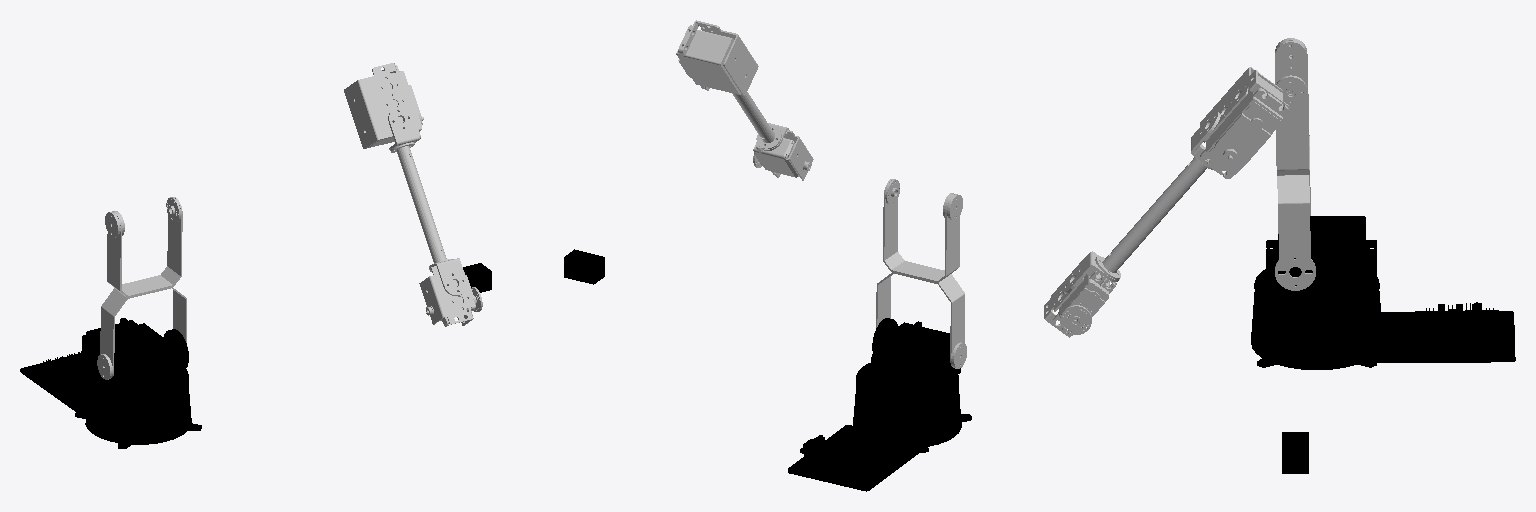
URDF robot description (lynxmotion_al5d):
<?xml version="1.0" ?>
<!-- =================================================================================== -->
<!-- |    This document was autogenerated by xacro from al5d.xacro                     | -->
<!-- |    EDITING THIS FILE BY HAND IS NOT RECOMMENDED                                 | -->
<!-- =================================================================================== -->
<robot name="lynxmotion_al5d" xmlns:xacro="http://ros.org/wiki/xacro">
  <!-- attach -->
  <!-- links -->
  <link name="base_link">
    <visual>
      <origin rpy="0 0 0" xyz="0 -0.015 0.0015"/>
      <geometry>
        <mesh filename="package://lynxmotion_al5d_support/meshes/base_1.dae"/>
      </geometry>
      <material name="black">
        <color rgba="0 0 0 1"/>
      </material>
    </visual>
    <collision>
      <origin rpy="0 0 0" xyz="0 0 0.015"/>
      <geometry>
        <cylinder length="0.043" radius="0.048"/>
      </geometry>
    </collision>
  </link>
  <link name="link_1">
    <visual>
      <origin rpy="0 0 0" xyz="0.0 -0.018 -0.042"/>
      <geometry>
        <mesh filename="package://lynxmotion_al5d_support/meshes/link_11.dae"/>
      </geometry>
      <material name="black">
        <color rgba="0 0 0 1"/>
      </material>
    </visual>
    <collision>
      <origin rpy="0 0 0" xyz="0 0 0"/>
      <geometry>
        <cylinder length="0.006" radius="0.048"/>
      </geometry>
    </collision>
  </link>
  <link name="link_2">
    <visual>
      <origin rpy="-0.38 0 0" xyz="0 -0.035 -0.06"/>
      <geometry>
        <mesh filename="package://lynxmotion_al5d_support/meshes/link_2.dae"/>
      </geometry>
      <material name="silver">
        <color rgba="0.8 0.8 0.8 1"/>
      </material>
    </visual>
    <collision>
      <origin rpy="0.1 0 0" xyz="0.073025 0 0"/>
      <geometry>
        <box size="0.12605 0.02 .02"/>
      </geometry>
    </collision>
  </link>
  <link name="link_3">
    <visual>
      <origin rpy="0 0 0" xyz="0.0936625 0 0"/>
      <geometry>
        <mesh filename="package://lynxmotion_al5d_support/meshes/link_3.dae"/>
      </geometry>
      <material name="silver">
        <color rgba="0.8 0.8 0.8 1"/>
      </material>
    </visual>
    <collision>
      <origin rpy="0 0 0" xyz="0.0936625 0 0"/>
      <geometry>
        <box size="0.187325 0.02 0.02"/>
      </geometry>
    </collision>
  </link>
  <link name="link_4">
    <visual>
      <origin rpy="0 0 0" xyz="0.016 0 0"/>
      <geometry>
        <box size="0.032 0.02 0.02"/>
      </geometry>
      <material name="black">
        <color rgba="0 0 0 1"/>
      </material>
    </visual>
    <collision>
      <origin rpy="0 0 0" xyz="0.016 0 0"/>
      <geometry>
        <box size="0.032 0.02 0.02"/>
      </geometry>
    </collision>
  </link>
  <link name="gripper">
    <visual>
      <origin rpy="0 0 0" xyz="0 0 0"/>
      <geometry>
        <mesh filename="package://lynxmotion_al5d_support/meshes/gripper.dae"/>
      </geometry>
      <material name="black">
        <color rgba="0 0 0 1"/>
      </material>
    </visual>
    <collision>
      <origin rpy="0 0 0" xyz="0 0 0.025"/>
      <geometry>
        <box size="0.05 0.05 0.05"/>
      </geometry>
    </collision>
  </link>
  <link name="tool0"/>

  <!-- joints -->
  <joint name="joint_1" type="revolute">
    <origin rpy="0 0 0" xyz="0 0 0.045"/>
    <parent link="base_link"/>
    <child link="link_1"/>
    <axis xyz="0 0 1"/>
    <limit effort="0" lower="-1.570795" upper="1.570795" velocity="3.67"/>
  </joint>
  <joint name="joint_2" type="revolute">
    <origin rpy="0 0 0" xyz="0 -0.01 0.028"/>
    <parent link="link_1"/>
    <child link="link_2"/>
    <axis xyz="1 0 0"/>
    <limit effort="0" lower="-1.570795" upper="1.570795" velocity="3.32"/>
  </joint>
  <joint name="joint_3" type="revolute">
    <origin rpy="0 0 0" xyz="0.14605 0 0"/>
    <parent link="link_2"/>
    <child link="link_3"/>
    <axis xyz="0 0 1"/>
    <limit effort="0" lower="-1.570795" upper="1.570795" velocity="3.67"/>
  </joint>
  <joint name="joint_4" type="revolute">
    <origin rpy="0 0 0" xyz="0.187325 0 0"/>
    <parent link="link_3"/>
    <child link="link_4"/>
    <axis xyz="0 0 1"/>
    <limit effort="0" lower="-1.570795" upper="1.570795" velocity="6.98"/>
  </joint>
  <joint name="gripper" type="fixed">
    <origin rpy="0 0 0" xyz="0.048 0 0"/>
    <parent link="link_4"/>
    <child link="gripper"/>
    <axis xyz="0 0 1"/>
    <limit effort="0" lower="-1.570795" upper="1.570795" velocity="6.98"/>
  </joint>

    <joint name="joint3-tool0" type="fixed">
      <parent link="gripper"/>
      <child link="tool0"/>
      <origin rpy="0 0 0" xyz="0 0 0"/>
    </joint>

  <link name="world"/>
  <joint name="fixed" type="fixed">
    <parent link="world"/>
    <child link="base_link"/>
  </joint>
</robot>

--- Render facts (derived) ---
The picture shows the robot from 3 angles, left to right: view 1: azimuth 30°, elevation 25°; view 2: azimuth 150°, elevation 25°; view 3: azimuth 270°, elevation 25°; orthographic projection.
Model lynxmotion_al5d with 8 links and 7 joints (4 revolute, 3 fixed), rooted at world, posed every joint at zero.
Visible links, largest first — view 1: link_3, base_link, link_1, link_2, link_4; view 2: base_link, link_3, link_1, link_2, link_4; view 3: base_link, link_3, link_2, link_1, link_4.
Link boxes in pixels (x1,y1,x2,y2): link_3: [344, 63, 482, 326]; base_link: [20, 351, 201, 448]; link_1: [82, 318, 188, 393]; link_2: [97, 197, 187, 379]; link_4: [463, 263, 491, 292]; base_link: [788, 363, 971, 491]; link_3: [676, 20, 813, 180]; link_1: [863, 318, 960, 398]; link_2: [876, 179, 966, 368]; link_4: [564, 249, 604, 284]; base_link: [1251, 269, 1515, 369]; link_3: [1044, 67, 1289, 337]; link_2: [1275, 38, 1315, 290]; link_1: [1266, 216, 1376, 297]; link_4: [1282, 432, 1308, 473].
Bounding box of the posed robot: 0.4152 × 0.3528 × 0.3312 m (x, y, z).
Meshes: 5 distinct files referenced, 4 mesh visuals loaded (4 Collada DAE); not drawn: 1 (reference not matched to a file when rendering).